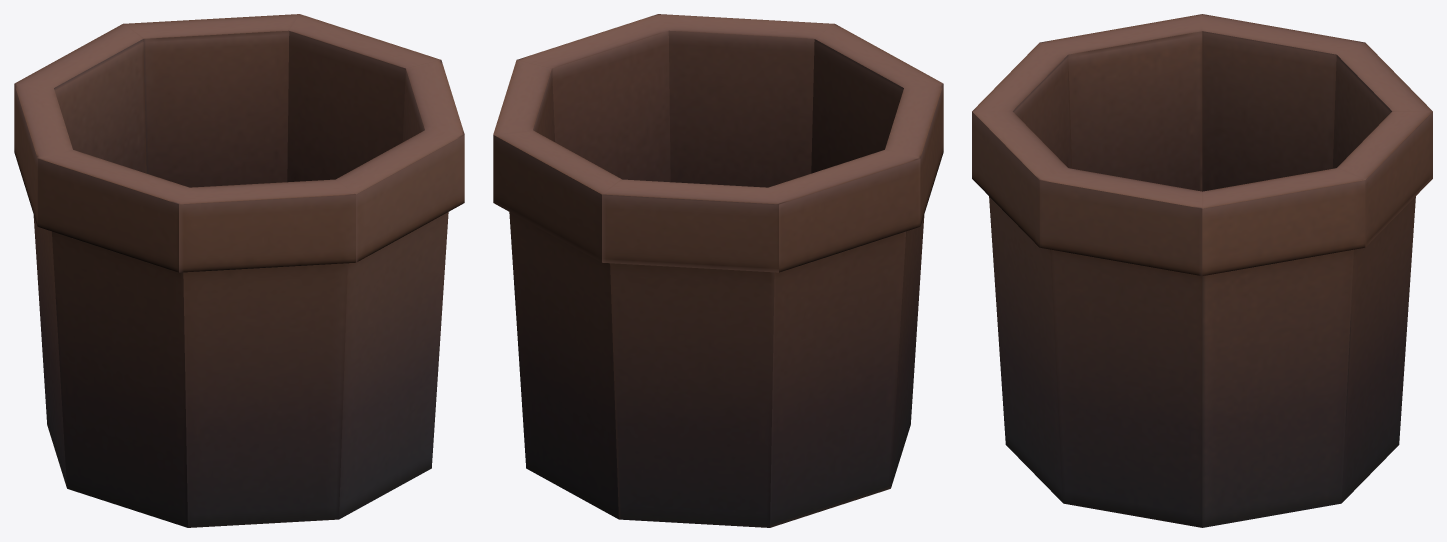
The model's file is pot01.fbx.
3 renders of one model, left to right at view 1: azimuth 30°, elevation 25°; view 2: azimuth 150°, elevation 25°; view 3: azimuth 270°, elevation 25°, orthographic.
Visible parts, largest first — view 1: pot01; view 2: pot01; view 3: pot01.
Boxes of the visible parts, bbox=[...] form: pot01: bbox=[14, 14, 464, 527]; pot01: bbox=[493, 14, 943, 527]; pot01: bbox=[972, 14, 1432, 527].
Size of the model in its own units: 0.4968 by 0.4968 by 0.3967.
1 material, 1 textured.
